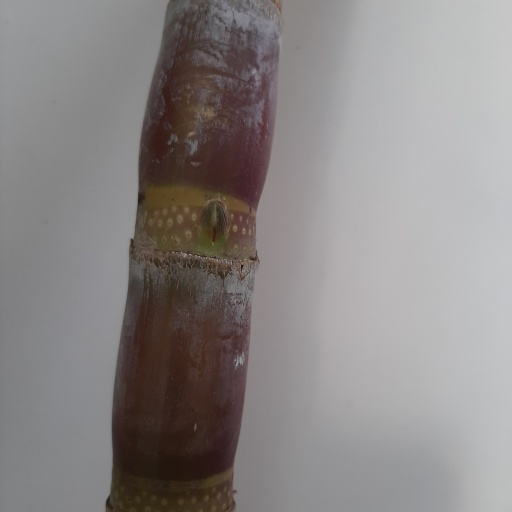Bud: (201, 199, 229, 249)
